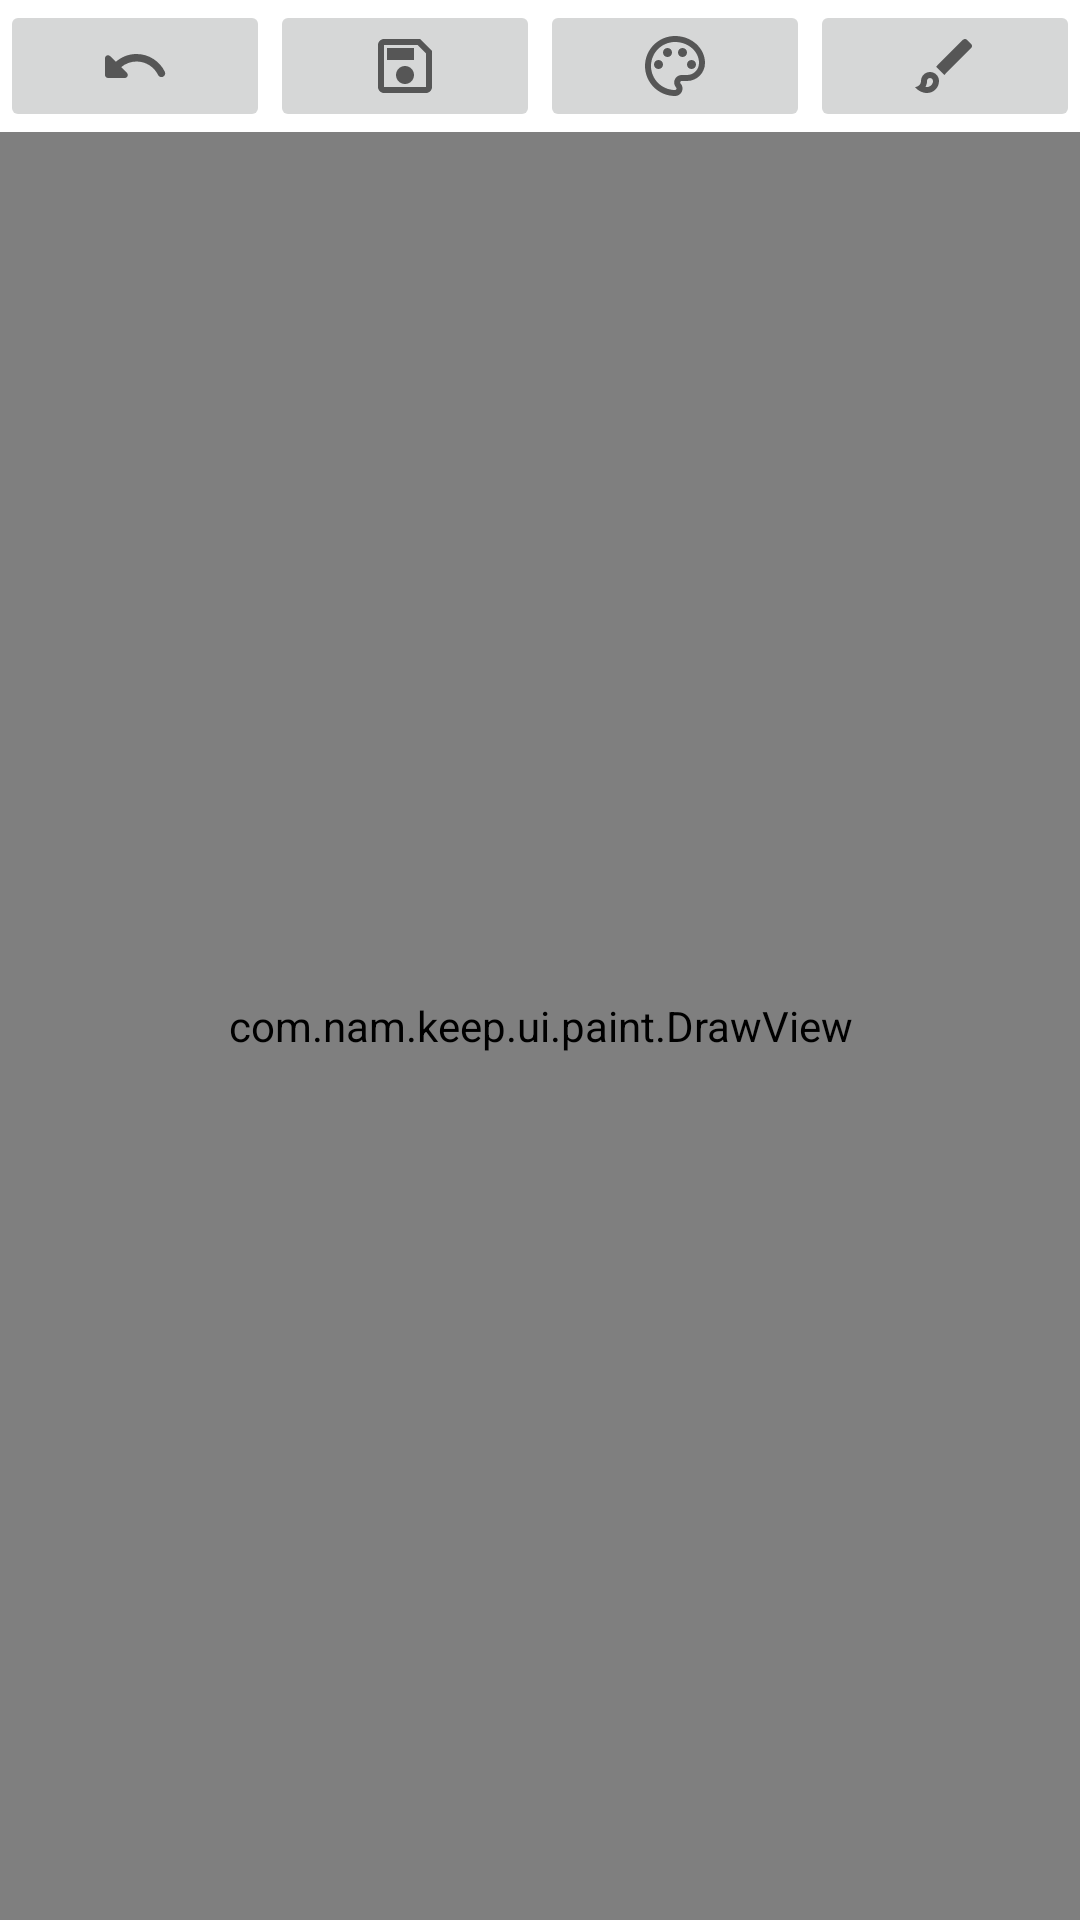

Point at icon controls on the screen. Image size 1080×1920, points as [x,y].
brush: [945,66]
palette: [675,66]
save: [405,66]
undo: [135,66]
